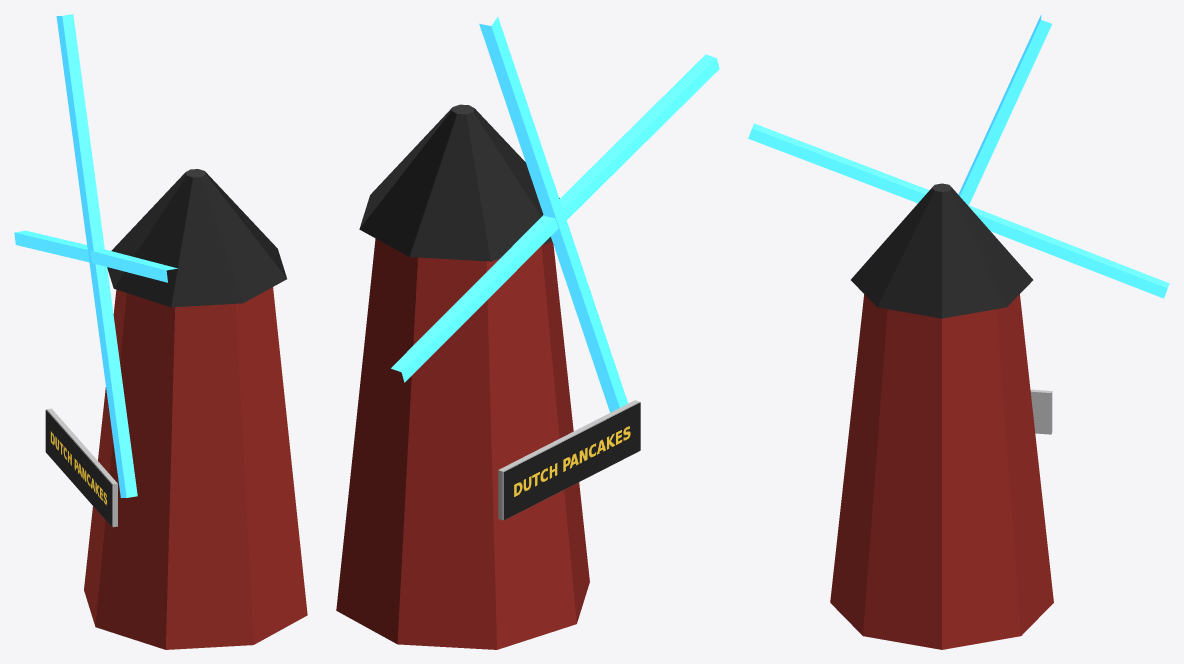
The model's file is pb_windmill.glb.
3 views of the same model, side by side, from view 1: azimuth 30°, elevation 25°; view 2: azimuth 150°, elevation 25°; view 3: azimuth 270°, elevation 25° (orthographic). The views are drawn at different scales.
Parts seen in each view (by area): view 1: pb_windmill_lod0; view 2: pb_windmill_lod0; view 3: pb_windmill_lod0.
Part boxes in pixels (x1,y1,x2,y2): pb_windmill_lod0: (14,14,307,649); pb_windmill_lod0: (336,17,719,649); pb_windmill_lod0: (748,14,1169,649).
Size of what is drawn, in the model's own units: 4.99 by 11.93 by 8.29.
Materials: 6 (1 with a texture image).
